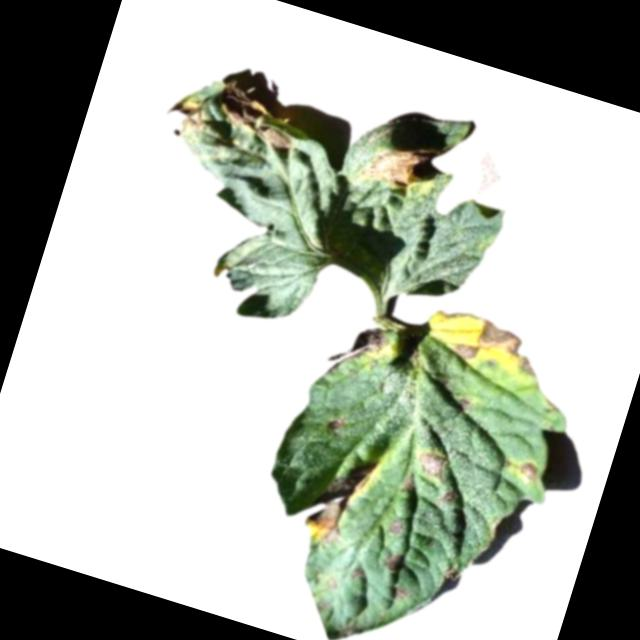Early_blight: (446, 308, 546, 384), (207, 79, 306, 152), (300, 454, 374, 545), (355, 128, 439, 198), (323, 314, 391, 381), (158, 88, 213, 143), (416, 443, 455, 483), (379, 547, 406, 574), (515, 457, 541, 480), (382, 517, 405, 540), (322, 410, 347, 431), (439, 485, 459, 510), (390, 583, 410, 600), (457, 393, 475, 410), (347, 564, 365, 579)
